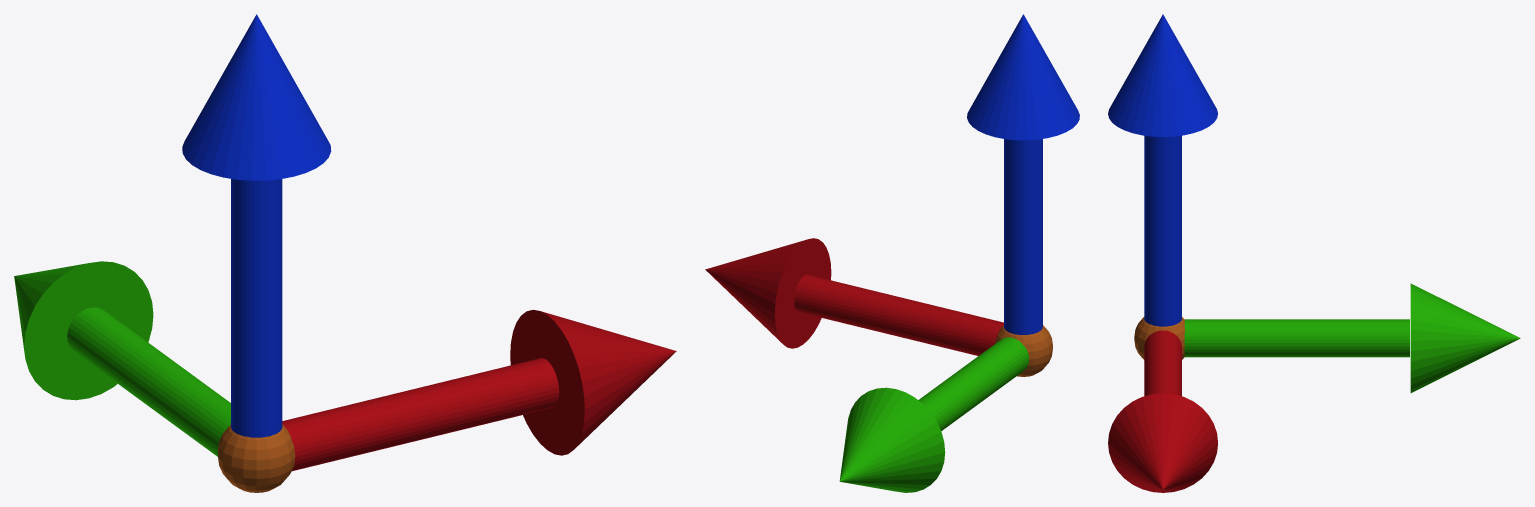
File: coordinates3D.obj
3 views of the same model, side by side, from view 1: azimuth 30°, elevation 25°; view 2: azimuth 150°, elevation 25°; view 3: azimuth 270°, elevation 25° (orthographic). The views are drawn at different scales.
Visible parts, largest first — view 1: Arrow3D-Z_Circle, Arrow3D-X_Circle.002, Arrow3D-Y_Circle.001, Sphere_Sphere.001; view 2: Arrow3D-Z_Circle, Arrow3D-X_Circle.002, Arrow3D-Y_Circle.001, Sphere_Sphere.001; view 3: Arrow3D-Y_Circle.001, Arrow3D-Z_Circle, Arrow3D-X_Circle.002, Sphere_Sphere.001.
Boxes of the visible parts, x1,y1,x2,y2 form: Arrow3D-Z_Circle: (182, 14, 331, 437); Arrow3D-X_Circle.002: (282, 309, 676, 471); Arrow3D-Y_Circle.001: (14, 261, 230, 456); Sphere_Sphere.001: (218, 424, 295, 492); Arrow3D-Z_Circle: (967, 14, 1079, 334); Arrow3D-X_Circle.002: (705, 238, 1003, 355); Arrow3D-Y_Circle.001: (839, 337, 1029, 492); Sphere_Sphere.001: (994, 325, 1052, 376); Arrow3D-Y_Circle.001: (1184, 283, 1520, 392); Arrow3D-Z_Circle: (1108, 14, 1217, 326); Arrow3D-X_Circle.002: (1108, 330, 1217, 492); Sphere_Sphere.001: (1134, 317, 1185, 359).
Size of the model in its own units: 1.35 by 1.35 by 1.35.
